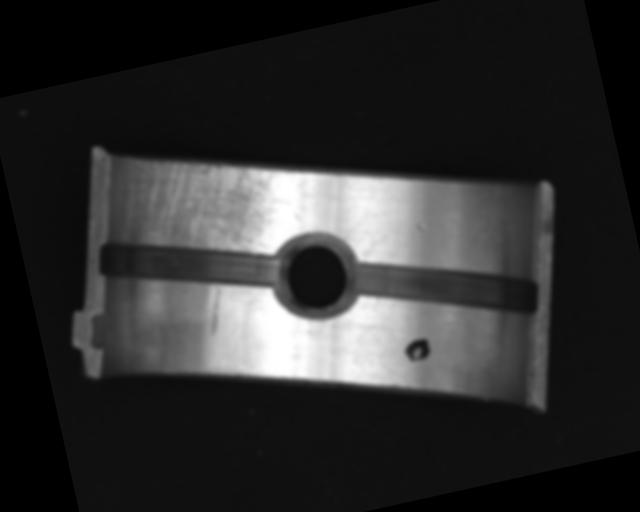blot: (401, 335, 433, 365)
bruise: (415, 220, 427, 234)
gap: (347, 225, 543, 350), (95, 207, 285, 321)
hole: (267, 226, 365, 327)
nick: (200, 281, 230, 337), (336, 211, 371, 243)
scratch: (104, 121, 301, 280)
